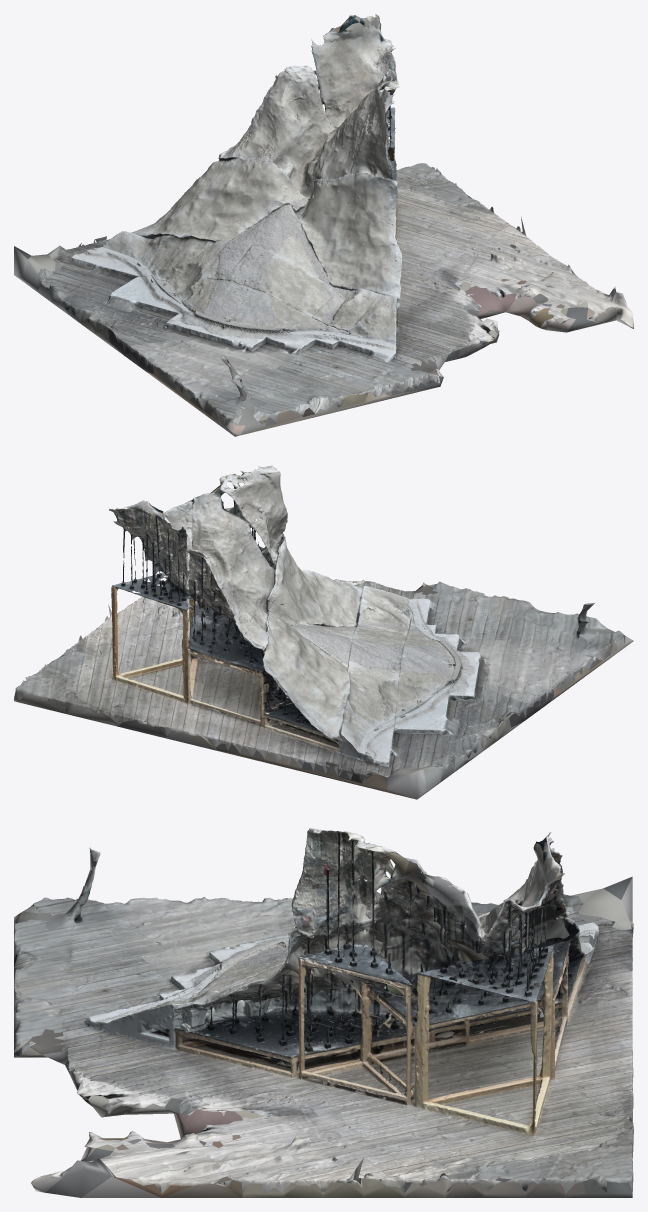
Rendered from diplom-modell-test.glb.
3 views of the same model, one above another, from view 1: azimuth 30°, elevation 25°; view 2: azimuth 150°, elevation 25°; view 3: azimuth 270°, elevation 25° (orthographic). The views are drawn at different scales.
Parts seen in each view (by area): view 1: Node; view 2: Node; view 3: Node.
Part boxes in pixels (bbox=[...]): Node: bbox=[14, 14, 633, 436]; Node: bbox=[14, 465, 633, 799]; Node: bbox=[14, 828, 633, 1197].
Bounding box in the file's own units: 4.53 × 2.19 × 4.23.
Materials: 1 (1 with a texture image).
